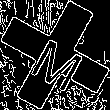M_NE: (23, 21, 87, 89)
